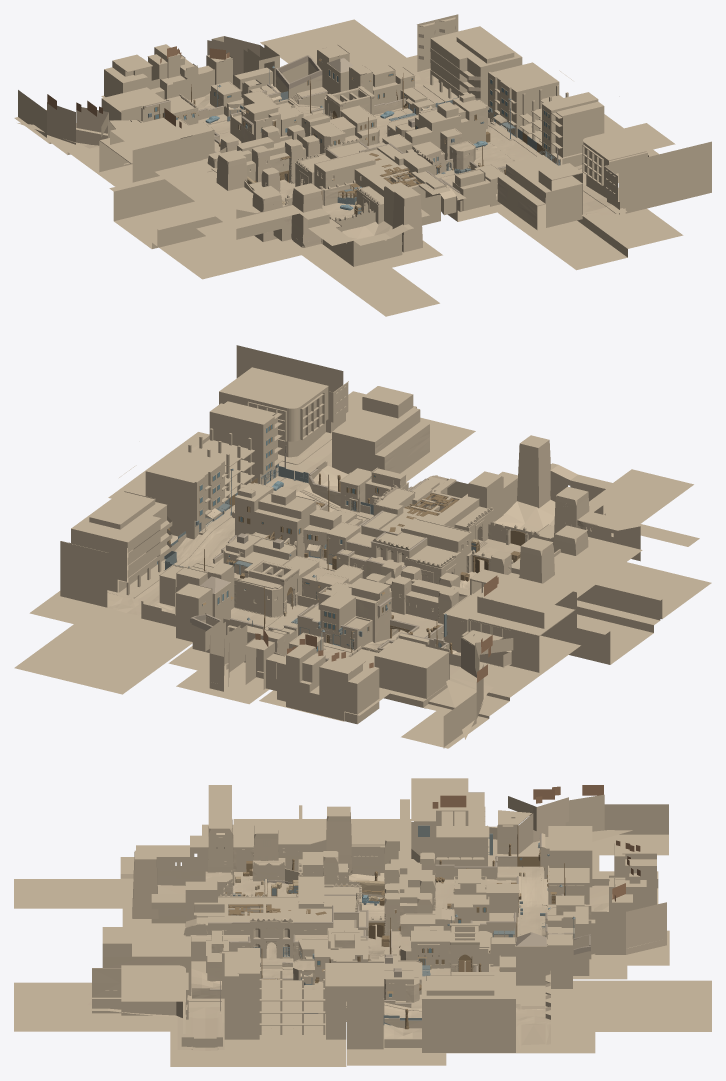
The model's file is dust2-world.glb.
3 renders of one model, top to bottom at view 1: azimuth 30°, elevation 25°; view 2: azimuth 150°, elevation 25°; view 3: azimuth 270°, elevation 25°, orthographic. The views are drawn at different scales.
Parts seen in each view (by area): view 1: 0_physics_group_concrete, 7_physics_group_rock, 1_physics_group_wood, 29_physics_passbullets_pottery, 6_physics_group_metal, 5_physics_group_glass; view 2: 0_physics_group_concrete, 7_physics_group_rock, 1_physics_group_wood, 6_physics_group_metal, 29_physics_passbullets_pottery, 5_physics_group_glass, 28_physics_passbullets_chainlink; view 3: 0_physics_group_concrete, 7_physics_group_rock, 29_physics_passbullets_pottery, 1_physics_group_wood, 9_physics_group, 8_physics_group_dirt, 3_physics_group_wood_panel, 6_physics_group_metal.
Boxes of the visible parts, bbox=[...] form: 0_physics_group_concrete: bbox=[14, 14, 711, 316]; 7_physics_group_rock: bbox=[145, 55, 558, 192]; 1_physics_group_wood: bbox=[154, 58, 549, 187]; 29_physics_passbullets_pottery: bbox=[47, 46, 229, 128]; 6_physics_group_metal: bbox=[148, 66, 560, 206]; 5_physics_group_glass: bbox=[155, 61, 549, 162]; 0_physics_group_concrete: bbox=[14, 345, 711, 748]; 7_physics_group_rock: bbox=[176, 445, 448, 659]; 1_physics_group_wood: bbox=[199, 424, 458, 652]; 6_physics_group_metal: bbox=[157, 464, 447, 650]; 29_physics_passbullets_pottery: bbox=[255, 575, 498, 682]; 5_physics_group_glass: bbox=[200, 424, 390, 651]; 28_physics_passbullets_chainlink: bbox=[164, 466, 373, 569]; 0_physics_group_concrete: bbox=[14, 778, 711, 1066]; 7_physics_group_rock: bbox=[208, 833, 590, 1011]; 29_physics_passbullets_pottery: bbox=[432, 785, 640, 901]; 1_physics_group_wood: bbox=[223, 825, 565, 993]; 9_physics_group: bbox=[422, 807, 485, 857]; 8_physics_group_dirt: bbox=[235, 876, 384, 900]; 3_physics_group_wood_panel: bbox=[235, 856, 542, 979]; 6_physics_group_metal: bbox=[301, 825, 575, 1024].
Size of the model in its own units: 7104 by 1284 by 8320.
